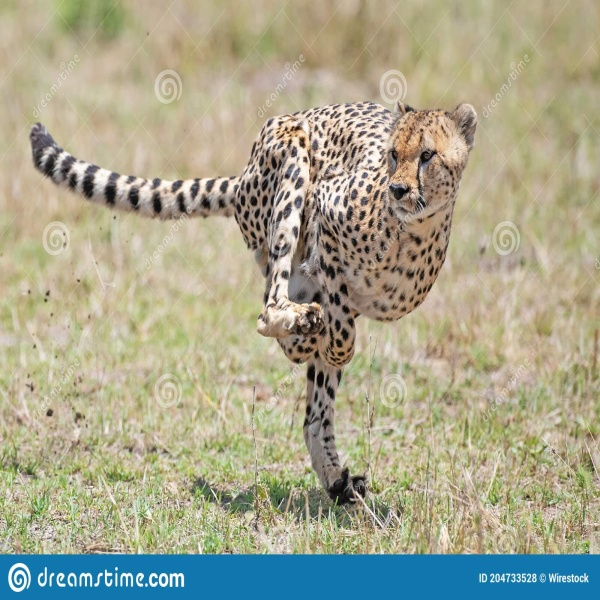Cheetah: (24, 96, 483, 508)
